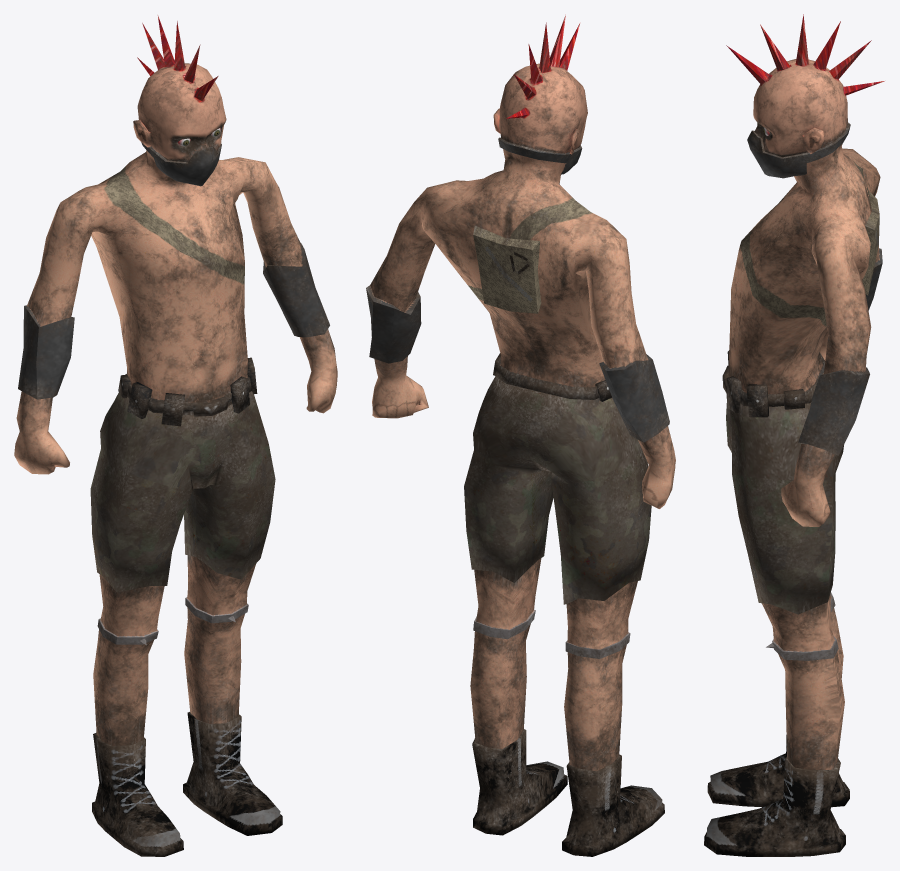
File: Anim_recibirdanyo_1_npc2.0011.obj
The picture shows the model from 3 angles, left to right: view 1: azimuth 30°, elevation 25°; view 2: azimuth 150°, elevation 25°; view 3: azimuth 270°, elevation 25°; orthographic projection. The views are drawn at different scales.
Parts seen in each view (by area): view 1: polySurface1; view 2: polySurface1; view 3: polySurface1.
Part boxes in pixels (left/top/right/bottom): polySurface1: left=14, top=15, right=337, bottom=856; polySurface1: left=366, top=14, right=675, bottom=856; polySurface1: left=704, top=14, right=884, bottom=856.
Bounding box in the file's own units: 4.11 × 10.12 × 2.06.
Materials: 2 (2 with a texture image).
